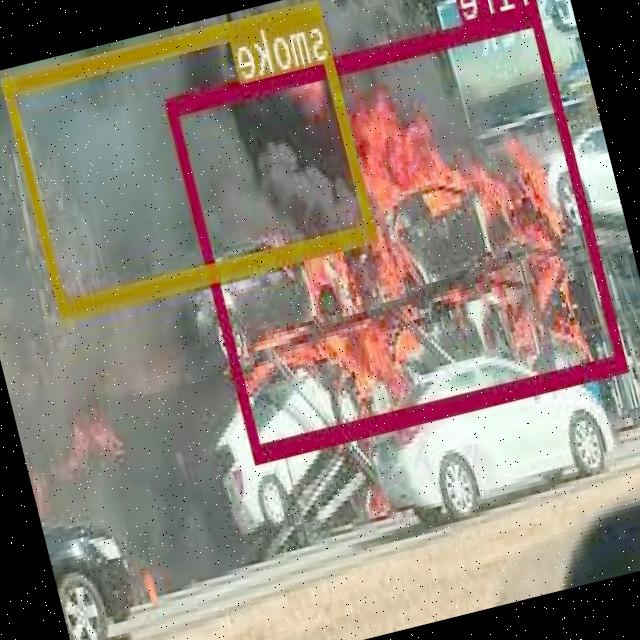fire: (164, 2, 629, 460)
smoke: (2, 0, 377, 313)
